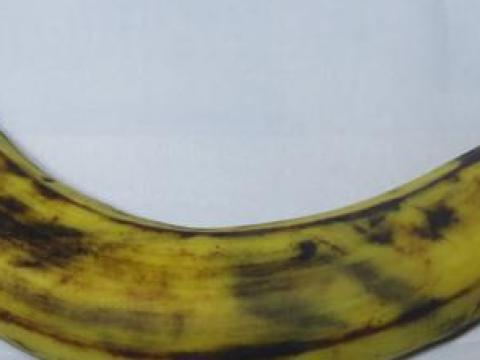overripe: (0, 106, 479, 359)
